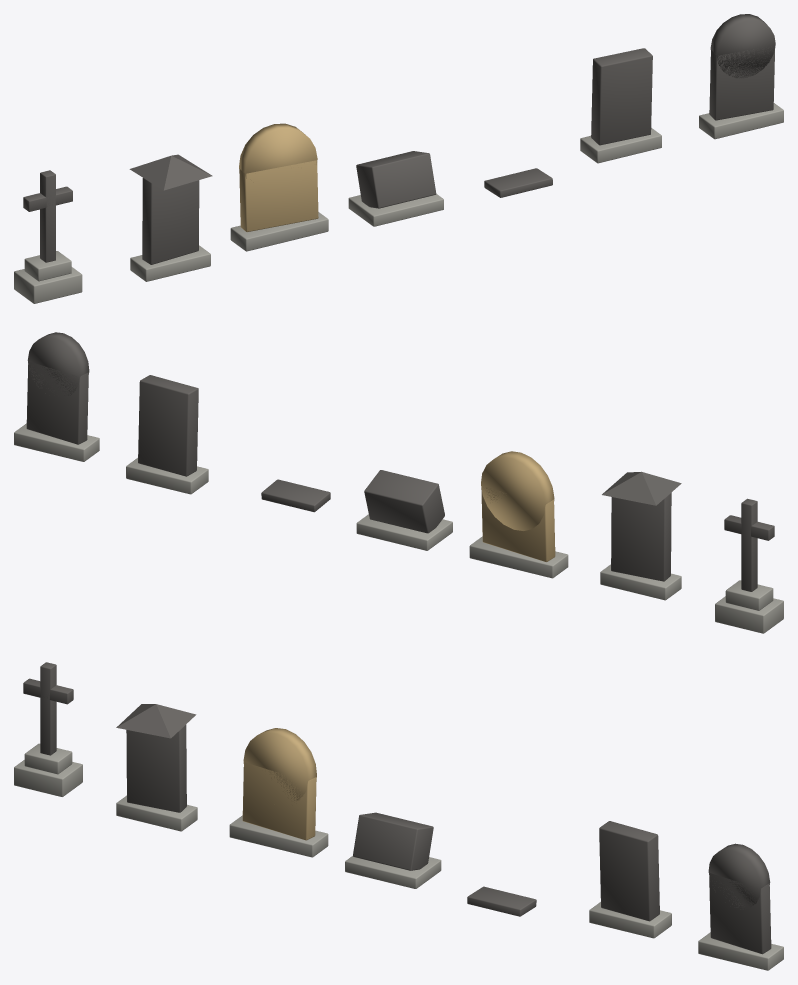
Rendered from graveyard_grave_row_3.glb.
The picture shows the model from 3 angles, top to bottom: view 1: azimuth 30°, elevation 25°; view 2: azimuth 150°, elevation 25°; view 3: azimuth 330°, elevation 25°; orthographic projection.
Visible parts, largest first — view 1: stone_5_slab, stone_2_slab, stone_1_slab, stone_6_slab, slant_3, stone_6_top, stone_2_top, stone_2_base, slant_3_base, stone_1_gable, cross_0_base, stone_6_base (+6 smaller); view 2: stone_5_slab, stone_1_slab, stone_2_top, stone_6_slab, slant_3, stone_2_slab, stone_6_top, stone_2_base, slant_3_base, stone_1_gable, cross_0_base, stone_6_base (+6 smaller); view 3: stone_5_slab, stone_1_slab, stone_2_slab, stone_6_slab, slant_3, stone_2_top, stone_6_top, stone_2_base, stone_1_gable, slant_3_base, cross_0_base, stone_6_base (+6 smaller).
Part boxes in pixels (left/top/right/bottom): stone_5_slab: left=591, top=48, right=652, bottom=145; stone_2_slab: left=239, top=160, right=318, bottom=231; stone_1_slab: left=142, top=178, right=199, bottom=264; stone_6_slab: left=709, top=46, right=775, bottom=120; slant_3: left=356, top=151, right=436, bottom=208; stone_6_top: left=710, top=14, right=775, bottom=78; stone_2_top: left=239, top=123, right=317, bottom=178; stone_2_base: left=230, top=212, right=328, bottom=251; slant_3_base: left=348, top=194, right=443, bottom=226; stone_1_gable: left=129, top=154, right=212, bottom=190; cross_0_base: left=14, top=267, right=82, bottom=303; stone_6_base: left=699, top=103, right=783, bottom=139; stone_5_slab: left=138, top=375, right=198, bottom=476; stone_1_slab: left=611, top=492, right=671, bottom=581; stone_2_top: left=481, top=451, right=554, bottom=530; stone_6_slab: left=26, top=361, right=88, bottom=444; slant_3: left=364, top=470, right=444, bottom=533; stone_2_slab: left=481, top=487, right=555, bottom=561; stone_6_top: left=27, top=332, right=89, bottom=396; stone_2_base: left=469, top=536, right=568, bottom=578; slant_3_base: left=356, top=514, right=452, bottom=550; stone_1_gable: left=602, top=471, right=681, bottom=505; cross_0_base: left=715, top=596, right=783, bottom=633; stone_6_base: left=14, top=423, right=99, bottom=461; stone_5_slab: left=599, top=821, right=659, bottom=921; stone_1_slab: left=126, top=724, right=186, bottom=812; stone_2_slab: left=242, top=762, right=316, bottom=840; stone_6_slab: left=709, top=873, right=771, bottom=954; slant_3: left=353, top=812, right=433, bottom=870; stone_2_top: left=243, top=728, right=316, bottom=805; stone_6_top: left=708, top=843, right=770, bottom=909; stone_2_base: left=229, top=815, right=328, bottom=857; stone_1_gable: left=116, top=704, right=196, bottom=738; slant_3_base: left=345, top=856, right=441, bottom=888; cross_0_base: left=14, top=760, right=82, bottom=796; stone_6_base: left=698, top=932, right=783, bottom=970.
Size of the model in its own units: 8.47 by 1.28 by 0.6859.
